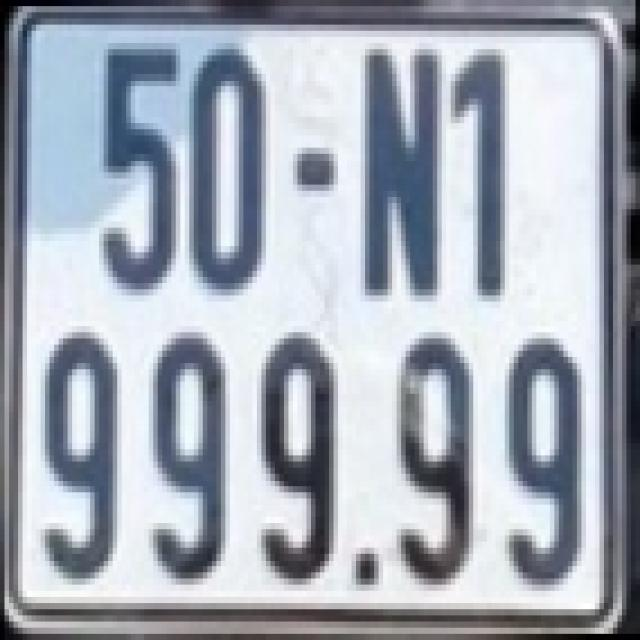0: (190, 49, 270, 289)
1: (451, 49, 514, 296)
5: (99, 43, 180, 289)
9: (392, 332, 478, 585), (257, 326, 338, 579), (149, 332, 230, 578), (40, 332, 121, 578), (505, 332, 581, 585)
N: (356, 43, 442, 295)
